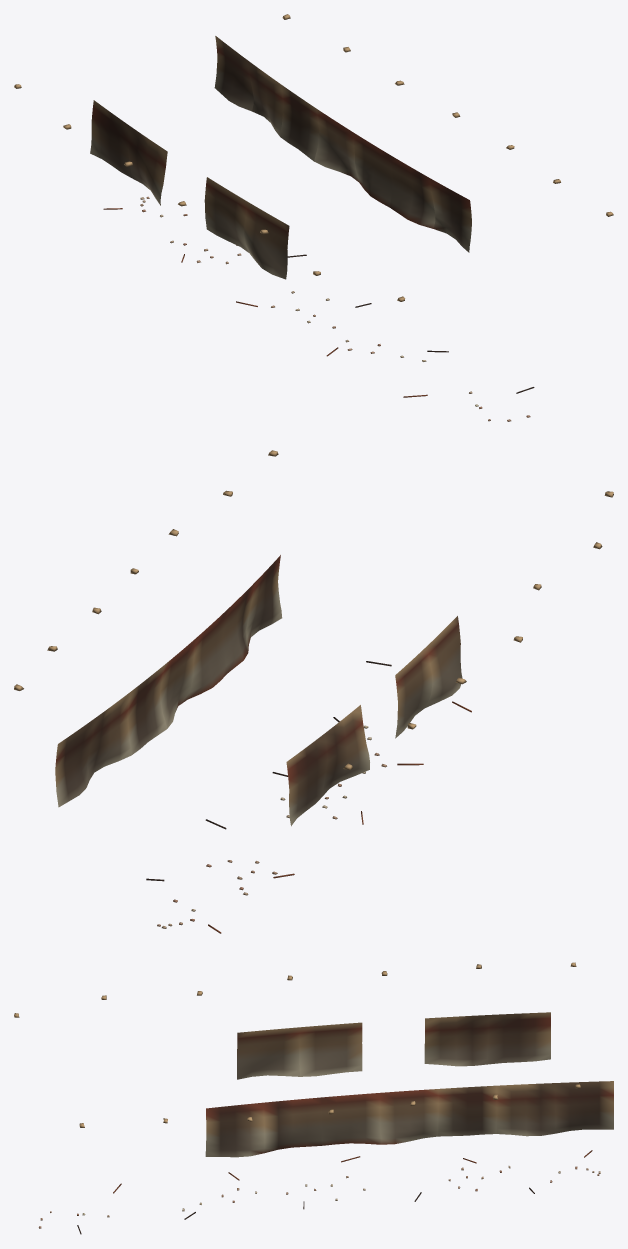
The model's file is slot_canyon_flow_bend15_detail2.glb.
3 views of the same model, one above another, from view 1: azimuth 30°, elevation 25°; view 2: azimuth 150°, elevation 25°; view 3: azimuth 270°, elevation 25° (orthographic). The views are drawn at different scales.
Parts seen in each view (by area): view 1: slot_canyon_flow_bend15_detail2; view 2: slot_canyon_flow_bend15_detail2; view 3: slot_canyon_flow_bend15_detail2.
Part boxes in pixels (bbox=[...]): slot_canyon_flow_bend15_detail2: bbox=[14, 14, 613, 421]; slot_canyon_flow_bend15_detail2: bbox=[14, 450, 613, 933]; slot_canyon_flow_bend15_detail2: bbox=[14, 962, 613, 1234].
Bounding box in the file's own units: 28.3 × 14.39 × 47.36.
